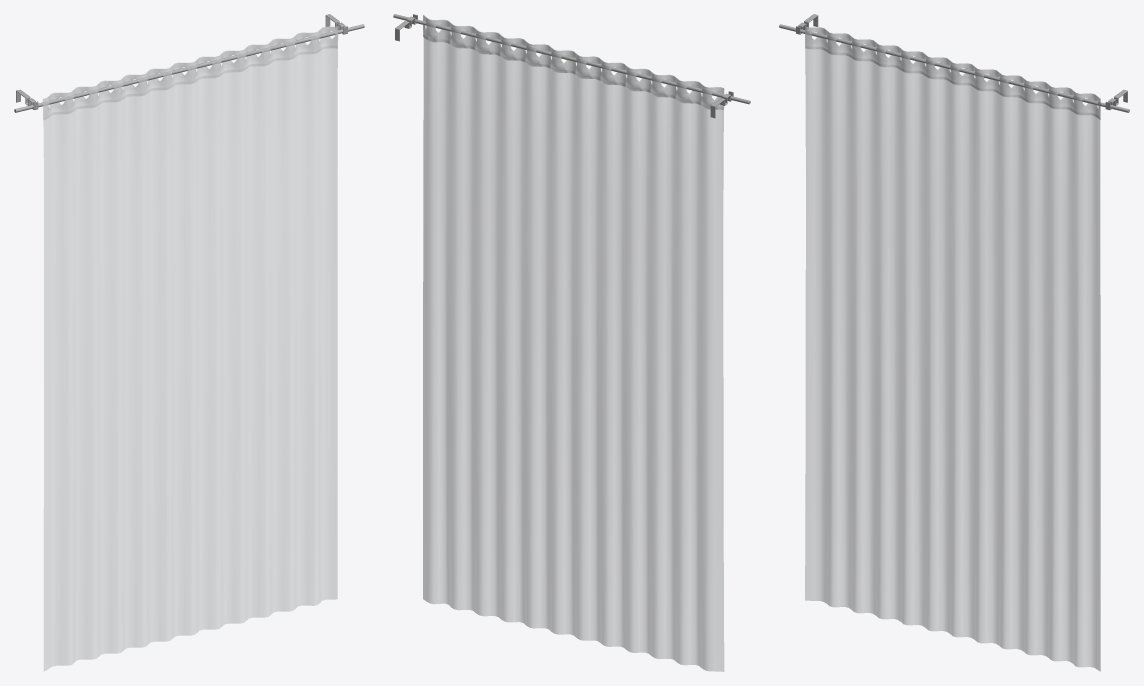
The model's file is curtain.glb.
3 renders of one model, left to right at view 1: azimuth 30°, elevation 25°; view 2: azimuth 150°, elevation 25°; view 3: azimuth 330°, elevation 25°, orthographic.
Parts seen in each view (by area): view 1: Curtains_0001, CurtainRod_0001; view 2: Curtains_0001, CurtainRod_0001; view 3: Curtains_0001, CurtainRod_0001.
Part boxes in pixels (box(x1,y1,x2,y2)): Curtains_0001: box(42, 26, 338, 671); CurtainRod_0001: box(14, 14, 364, 112); Curtains_0001: box(423, 15, 724, 671); CurtainRod_0001: box(393, 14, 750, 118); Curtains_0001: box(805, 26, 1100, 671); CurtainRod_0001: box(779, 14, 1129, 112).
Bounding box in the file's own units: 1.44 × 2.26 × 0.131.
2 materials, 2 textured.
